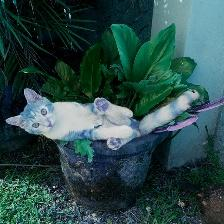kedo: (5, 88, 199, 150)
